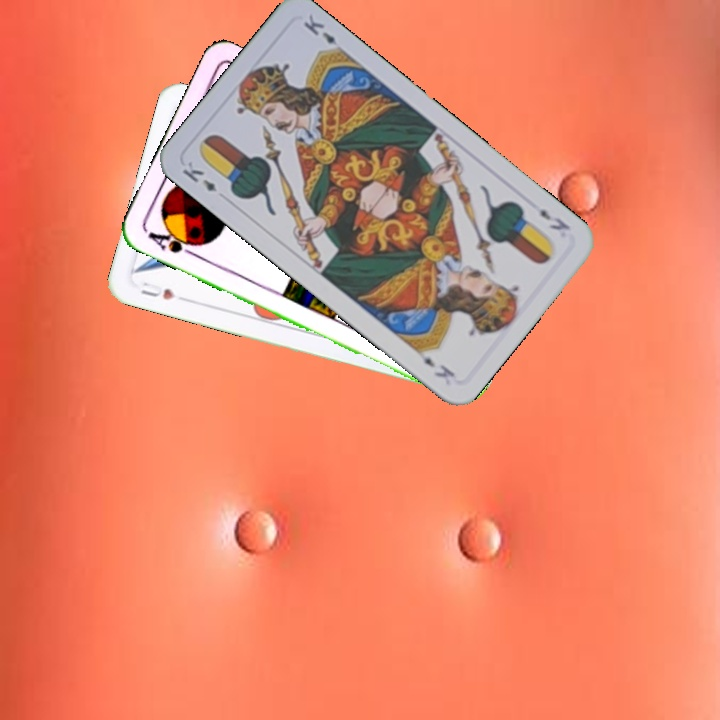EK: (178, 157, 219, 195), (535, 204, 573, 233)
HU: (136, 278, 178, 303)
SA: (143, 225, 203, 260)
